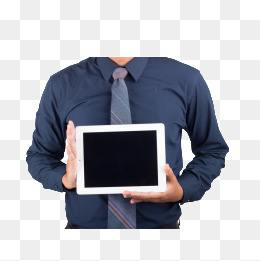pad: (60, 115, 186, 207)
